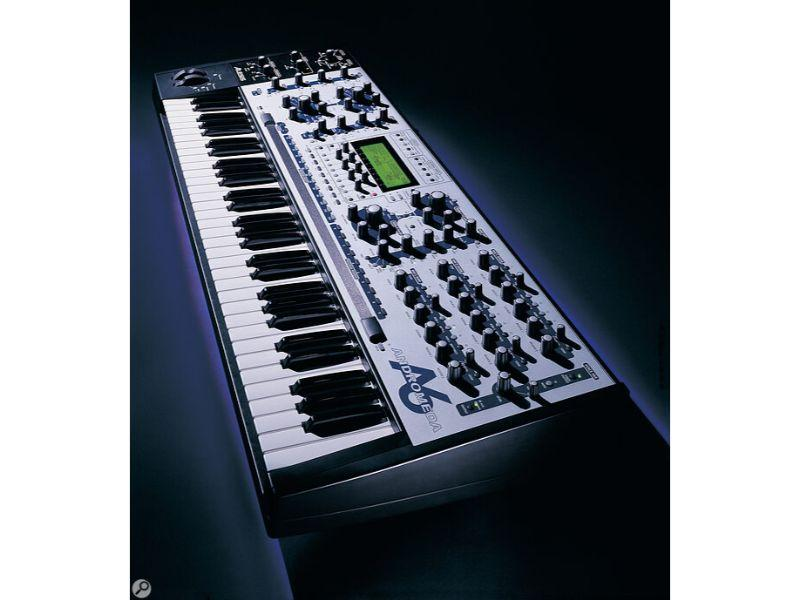synthesizer: (155, 45, 625, 517)
